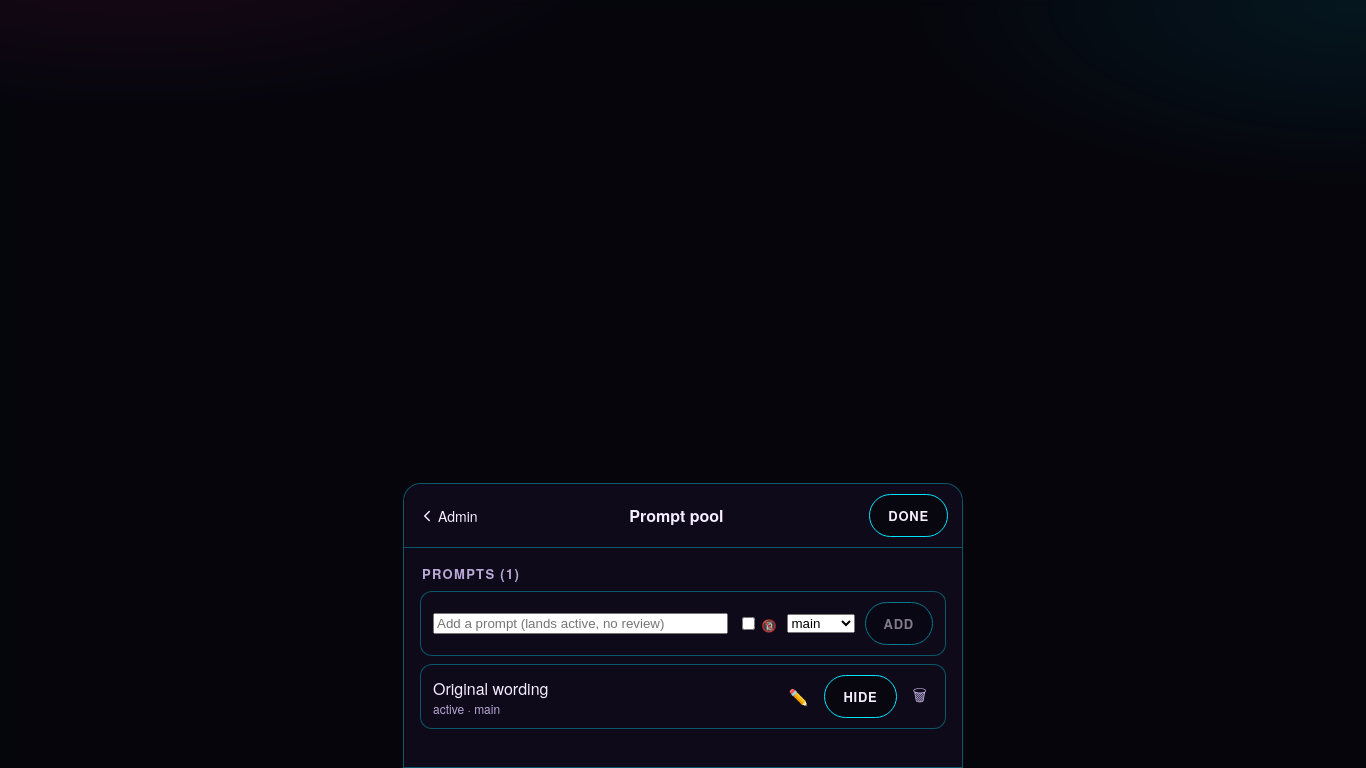
Scenario: AsyncButton affordance on moderation actions (specs/admin-async-feedback.md) › a rejected inline text save keeps the editor open with the draft and the save-specific alert
Click the button titled "Edit text": (798, 696) [782,679,814,714]
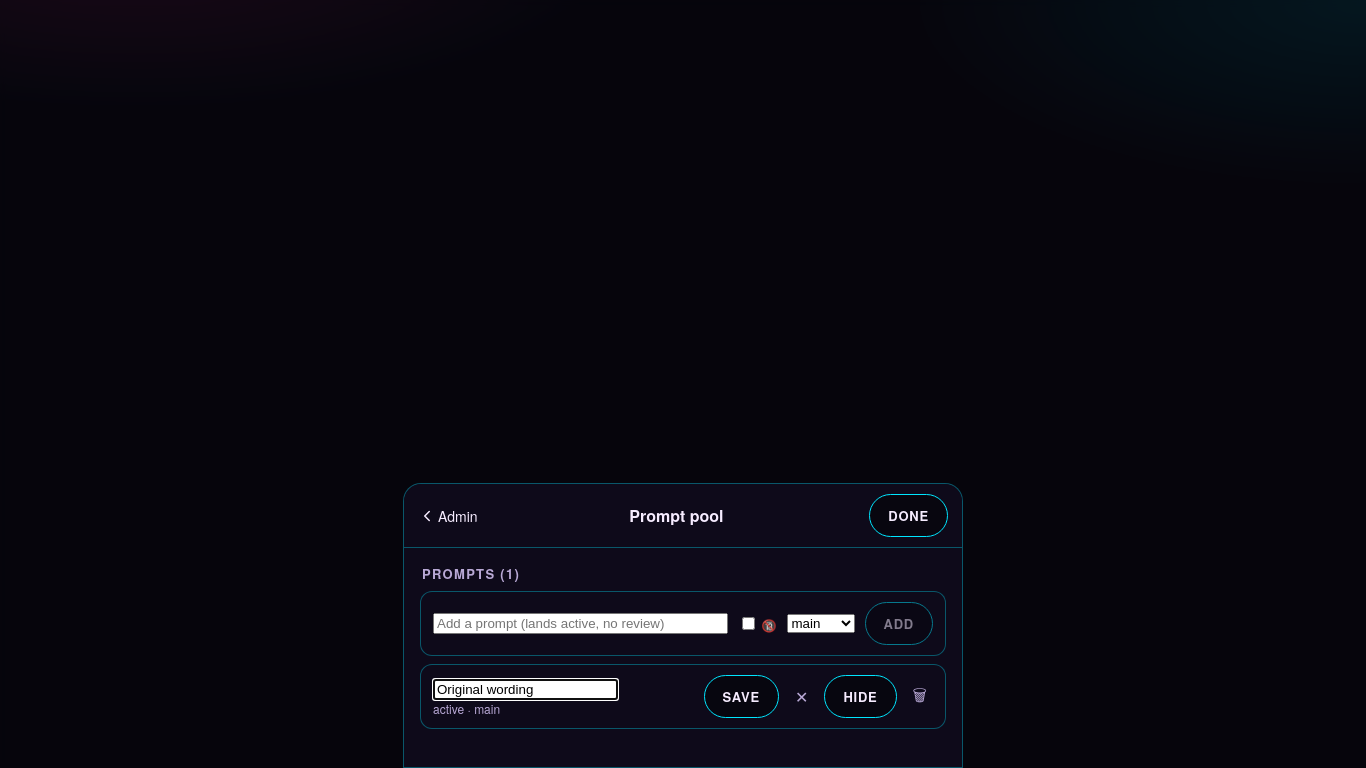
Replace the text in the field named "Edit prompt text" with "Sharper wording": (526, 690) [433,679,618,700]
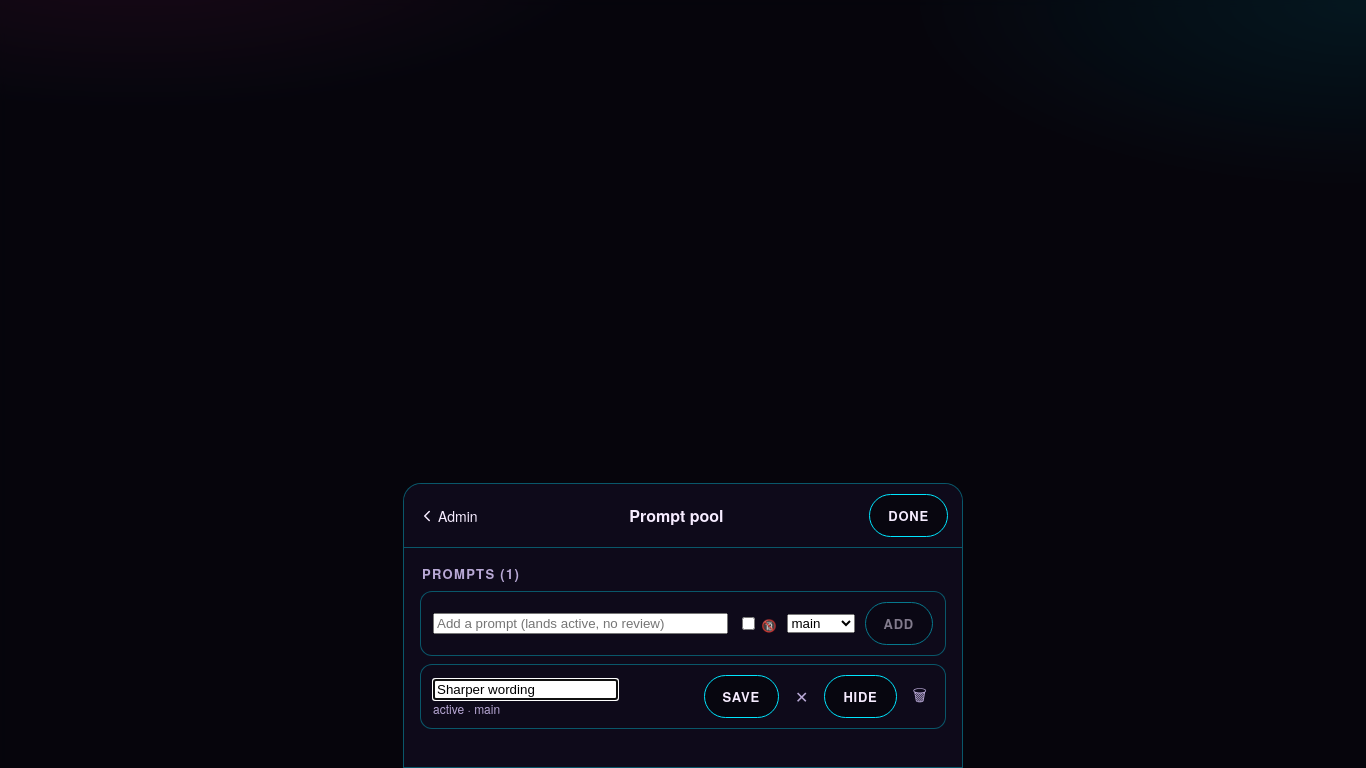
Click the button "Save": (741, 696) [704,675,779,718]
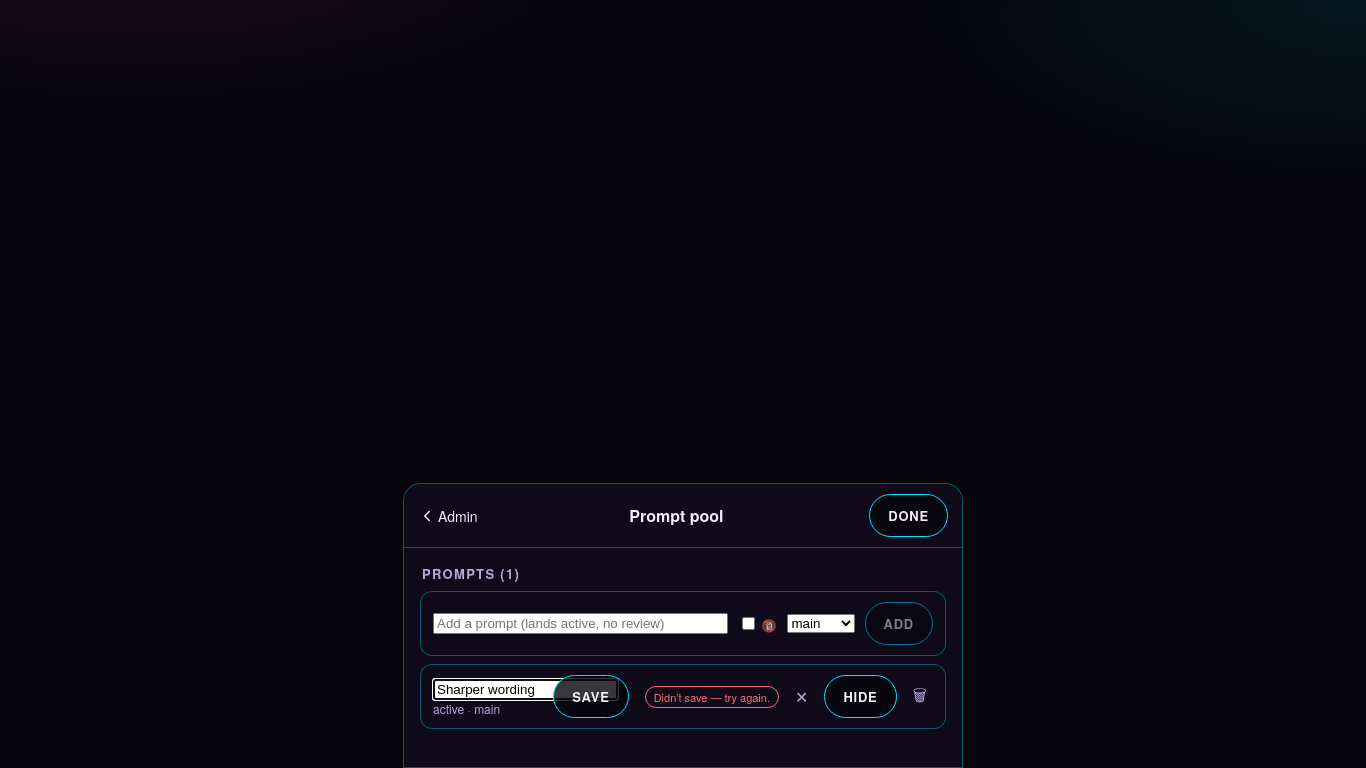
Expected: the message reads "Didn’t save — try again.", [654,688,770,704]
